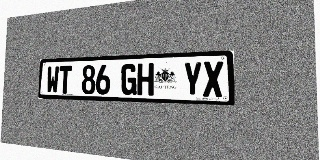6: (95, 64, 111, 95)
8: (81, 65, 96, 94)
G: (121, 64, 137, 95)
H: (137, 63, 154, 96)
T: (58, 66, 72, 94)
W: (46, 66, 59, 93)
X: (203, 61, 223, 97)
Y: (183, 62, 202, 97)
